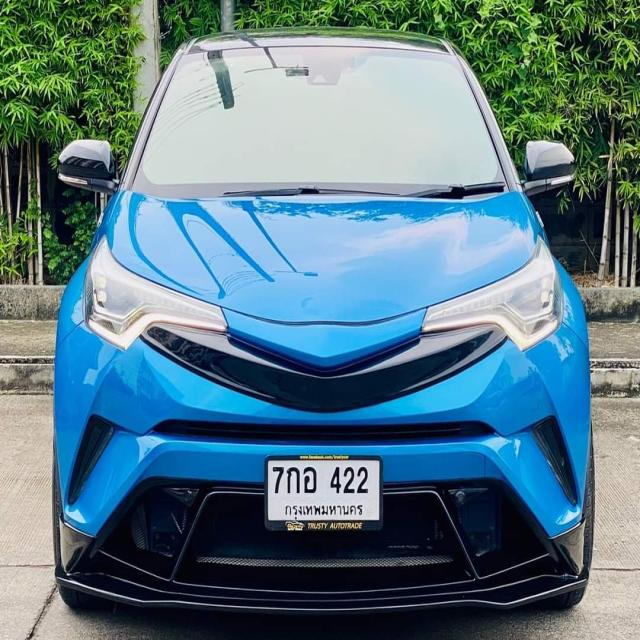license_plate: (265, 453, 383, 532)
